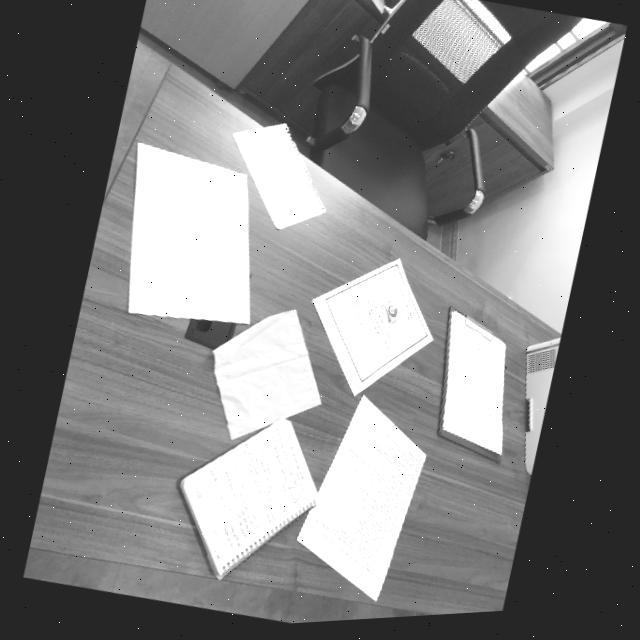document: (297, 395, 426, 600), (178, 415, 320, 579), (312, 259, 432, 395), (233, 123, 325, 229), (442, 309, 505, 456)
